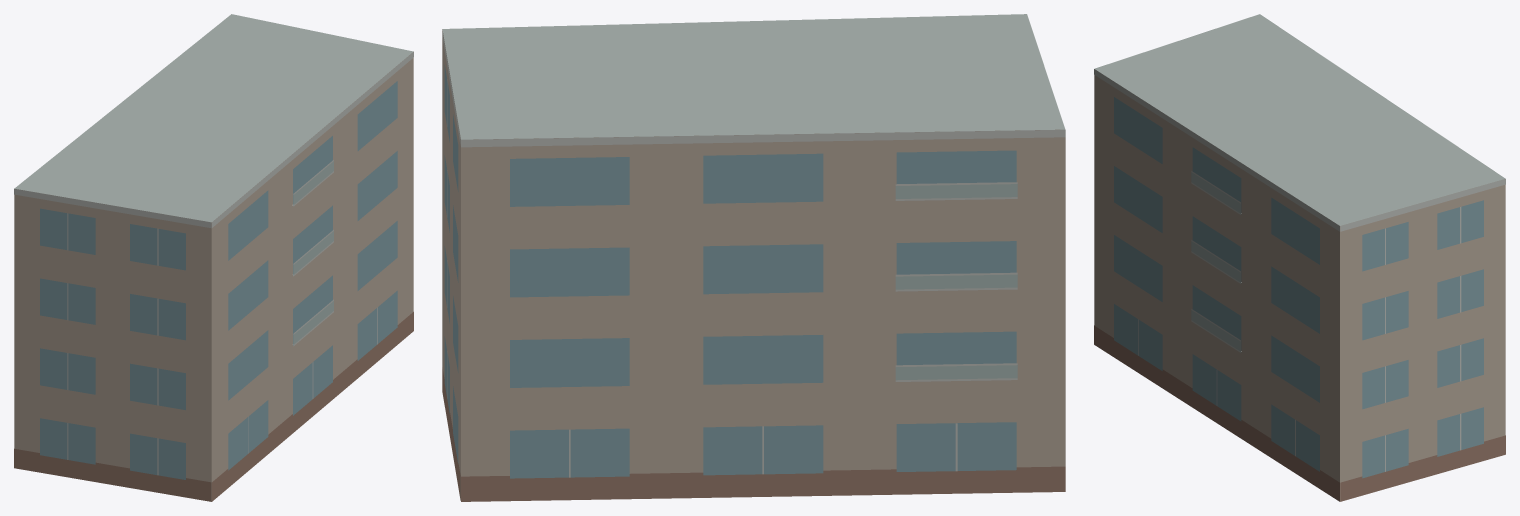
Rendered from survey-upis-32894023.glb.
The picture shows the model from 3 angles, left to right: view 1: azimuth 30°, elevation 25°; view 2: azimuth 150°, elevation 25°; view 3: azimuth 270°, elevation 25°; orthographic projection. The views are drawn at different scales.
Visible parts, largest first — view 1: survey-upis-32894023.tmp; view 2: survey-upis-32894023.tmp; view 3: survey-upis-32894023.tmp.
Part boxes in pixels (x1,y1,x2,y2): survey-upis-32894023.tmp: [14, 14, 413, 501]; survey-upis-32894023.tmp: [442, 14, 1065, 501]; survey-upis-32894023.tmp: [1094, 14, 1505, 501].
Size of the model in its own units: 18.96 by 11.5 by 15.56.
